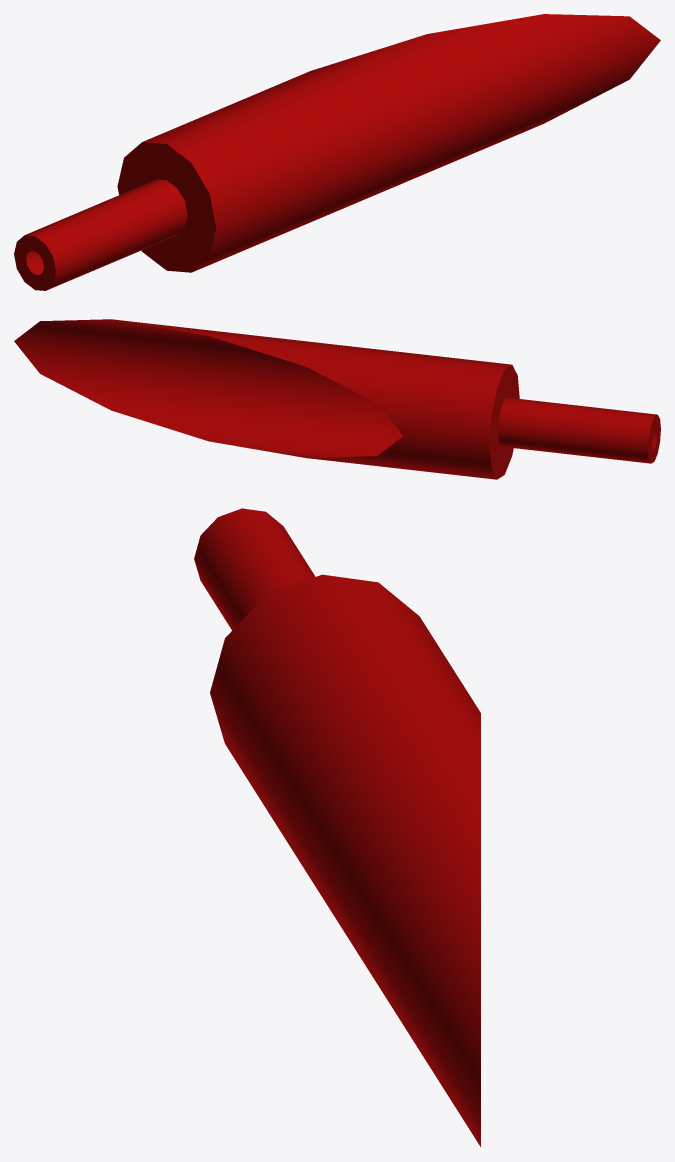
Rendered from original-10.obj.
3 renders of one model, top to bottom at view 1: azimuth 30°, elevation 25°; view 2: azimuth 150°, elevation 25°; view 3: azimuth 270°, elevation 25°, orthographic. The views are drawn at different scales.
Parts seen in each view (by area): view 1: Kreg_Pocket_Hole_3_4_3/Kreg_Pocket_Hole_3_4_1_2/mesh14/mesh14-ge; view 2: Kreg_Pocket_Hole_3_4_3/Kreg_Pocket_Hole_3_4_1_2/mesh14/mesh14-ge; view 3: Kreg_Pocket_Hole_3_4_3/Kreg_Pocket_Hole_3_4_1_2/mesh14/mesh14-ge.
Part boxes in pixels (<box>): Kreg_Pocket_Hole_3_4_3/Kreg_Pocket_Hole_3_4_1_2/mesh14/mesh14-ge: <box>14,14,660,290</box>; Kreg_Pocket_Hole_3_4_3/Kreg_Pocket_Hole_3_4_1_2/mesh14/mesh14-ge: <box>14,319,660,479</box>; Kreg_Pocket_Hole_3_4_3/Kreg_Pocket_Hole_3_4_1_2/mesh14/mesh14-ge: <box>194,508,480,1146</box>.
Size of the model in its own units: 0.0746 by 0.0128 by 0.0158.
